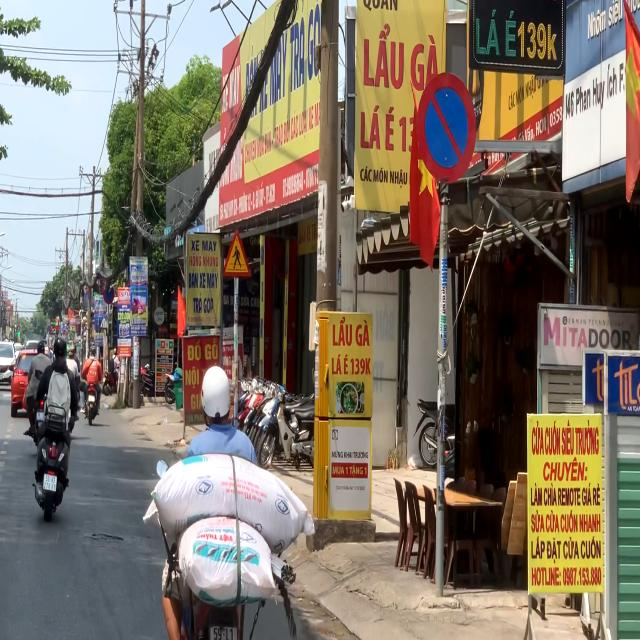P.131a: (416, 71, 477, 188)
W.224: (220, 227, 252, 280)
